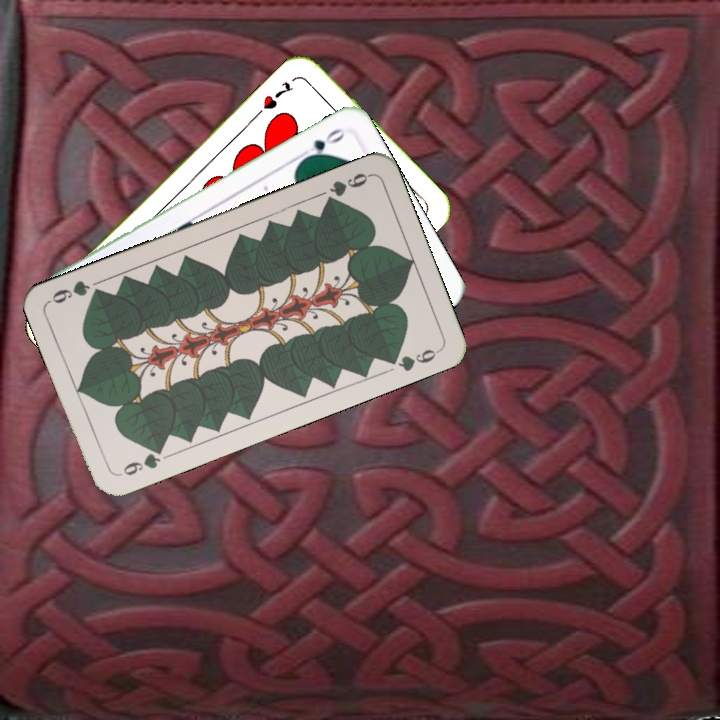G9: (320, 169, 373, 208), (115, 442, 167, 479)
GO: (294, 124, 347, 165)
H7: (259, 77, 296, 112)
